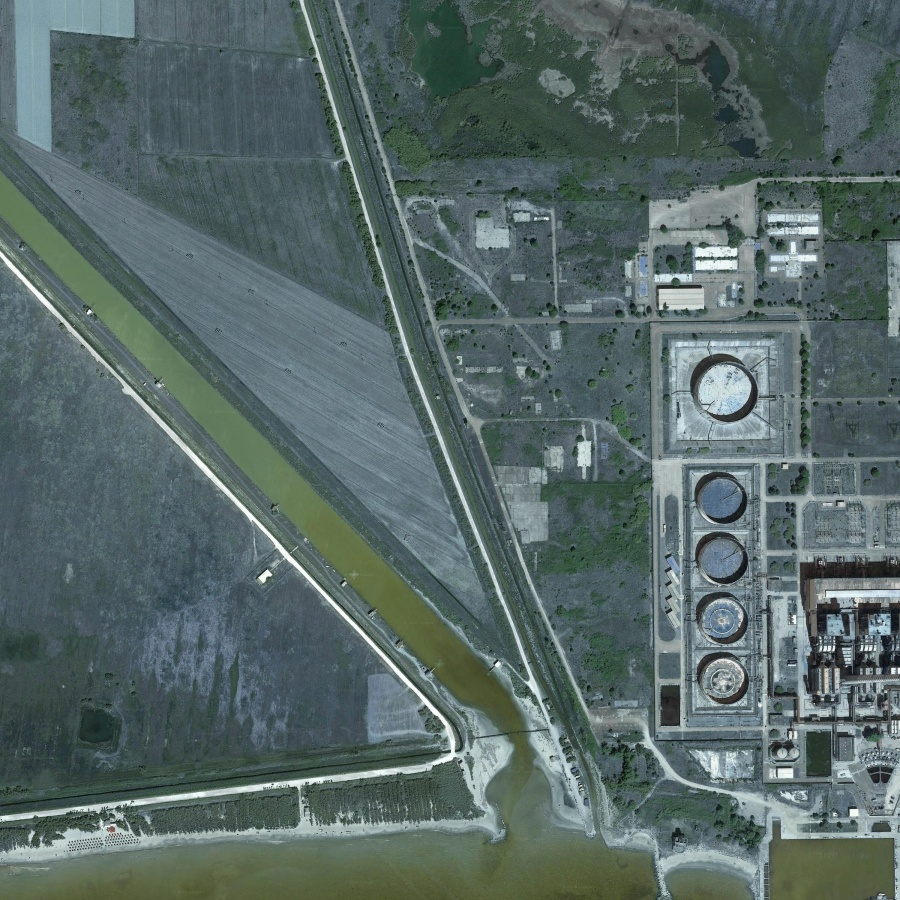PowerPlant: (647, 322, 796, 738)
